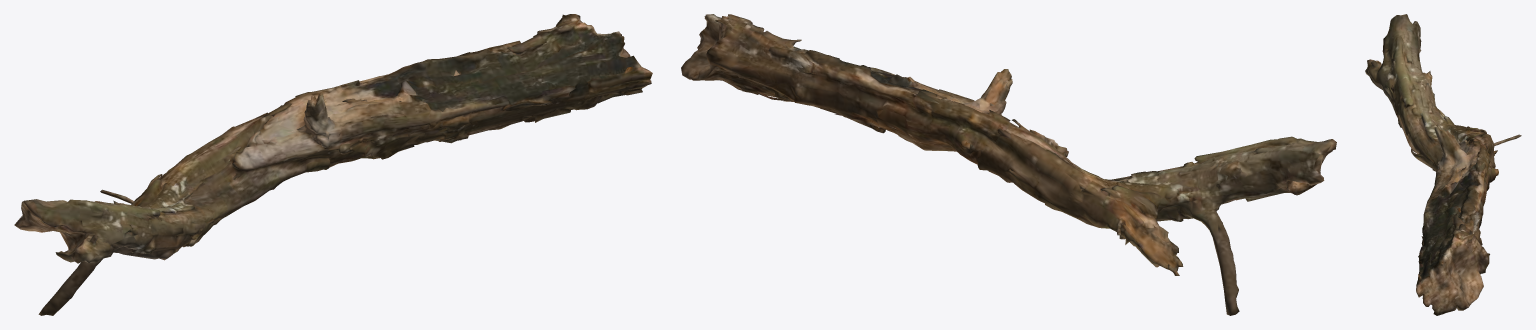
The model's file is trunk.glb.
The picture shows the model from 3 angles, left to right: view 1: azimuth 30°, elevation 25°; view 2: azimuth 150°, elevation 25°; view 3: azimuth 270°, elevation 25°; orthographic projection. The views are drawn at different scales.
Visible parts, largest first — view 1: dead_tree_trunk_02_LOD3; view 2: dead_tree_trunk_02_LOD3; view 3: dead_tree_trunk_02_LOD3.
Boxes of the visible parts, <box> form: dead_tree_trunk_02_LOD3: <box>14,14,652,315</box>; dead_tree_trunk_02_LOD3: <box>681,14,1336,315</box>; dead_tree_trunk_02_LOD3: <box>1365,14,1521,315</box>.
Bounding box in the file's own units: 4.05 × 1.05 × 1.06.
Materials: 1 (1 with a texture image).
